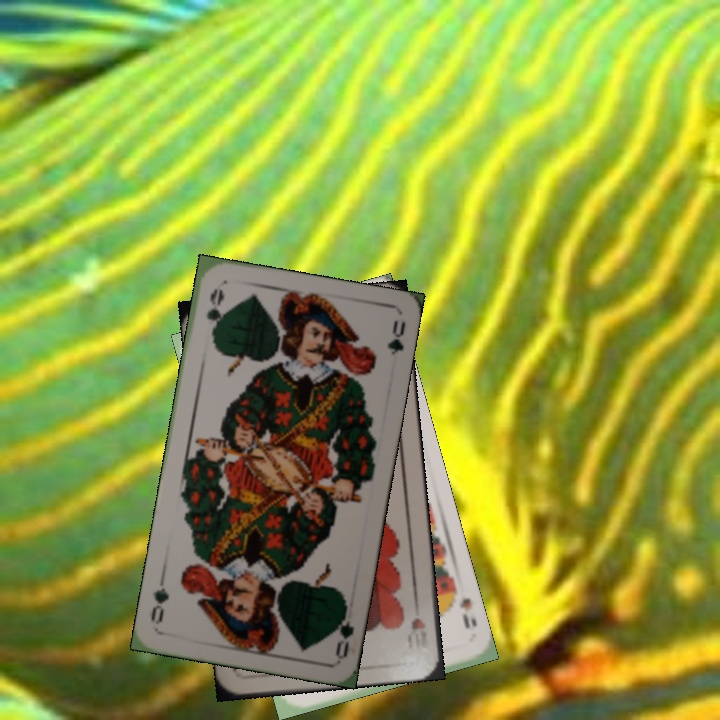GO: (328, 600, 357, 660), (203, 284, 227, 342)
H10: (405, 595, 433, 654)
S9: (447, 582, 480, 631)
